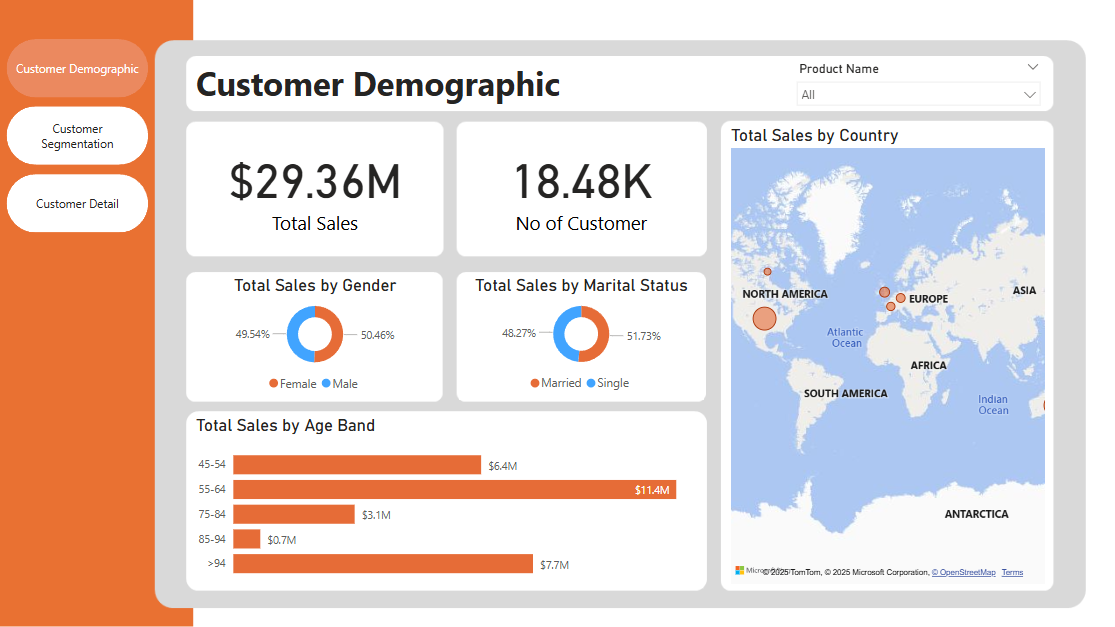

Layout of this report page (visuals, bound fields, positions):
{"tool":"powerbi","page":{"name":"Customer Demographic","canvas":[1280,720],"ordinal":0},"visuals":[{"type":"card","fields":{"Values":["Sum(FactInternetSales.SalesAmount)"]},"box":[221.2,144.2,279.8,144.2],"z":0},{"type":"card","fields":{"Values":["Count(FactInternetSales.CustomerKey)"]},"box":[525.2,144.2,279.8,144.2],"z":1000},{"type":"donutChart","title":"Total Sales by Gender","fields":{"Y":["Sum(FactInternetSales.SalesAmount)"],"Category":["DimCustomer.Gender"]},"box":[221.2,315.4,279.8,142.7],"z":2000},{"type":"donutChart","title":"Total Sales by Marital Status","fields":{"Y":["Sum(FactInternetSales.SalesAmount)"],"Category":["DimCustomer.MaritalStatus"]},"box":[525.8,316,279.8,142.3],"z":3000},{"type":"barChart","title":"Total Sales by Age Band","fields":{"Y":["Sum(FactInternetSales.SalesAmount)"],"Category":["Age Sort.Age Band"]},"box":[220.7,475.2,584.9,197.8],"z":4000},{"type":"map","title":"Total Sales by Country","fields":{"Category":["DimGeography.Country"],"Size":["Sum(FactInternetSales.SalesAmount)"]},"box":[831,144.7,369,528.2],"z":5000},{"type":"textbox","box":[220.7,66.3,495.7,62.7],"z":6000},{"type":"slicer","fields":{"Values":["DimProduct.Product Name"]},"box":[900.9,66.3,299.1,62.7],"z":7000},{"type":"pageNavigator","box":[8.6,45.7,162.9,222.9],"z":7001}]}

Visuals, with their boxes in screenshot pixels (x1, y1, x2, y2), scaled from the page's 1280x720 canvas onto the 1115x627 screenshot:
card - Sum(FactInternetSales.SalesAmount): rect(193, 126, 436, 251)
card - Count(FactInternetSales.CustomerKey): rect(457, 126, 701, 251)
"Total Sales by Gender" donutChart: rect(193, 275, 436, 399)
"Total Sales by Marital Status" donutChart: rect(458, 275, 702, 399)
"Total Sales by Age Band" barChart: rect(192, 414, 702, 586)
"Total Sales by Country" map: rect(724, 126, 1045, 586)
textbox: rect(192, 58, 624, 112)
slicer - DimProduct.Product Name: rect(785, 58, 1045, 112)
pageNavigator: rect(7, 40, 149, 234)
